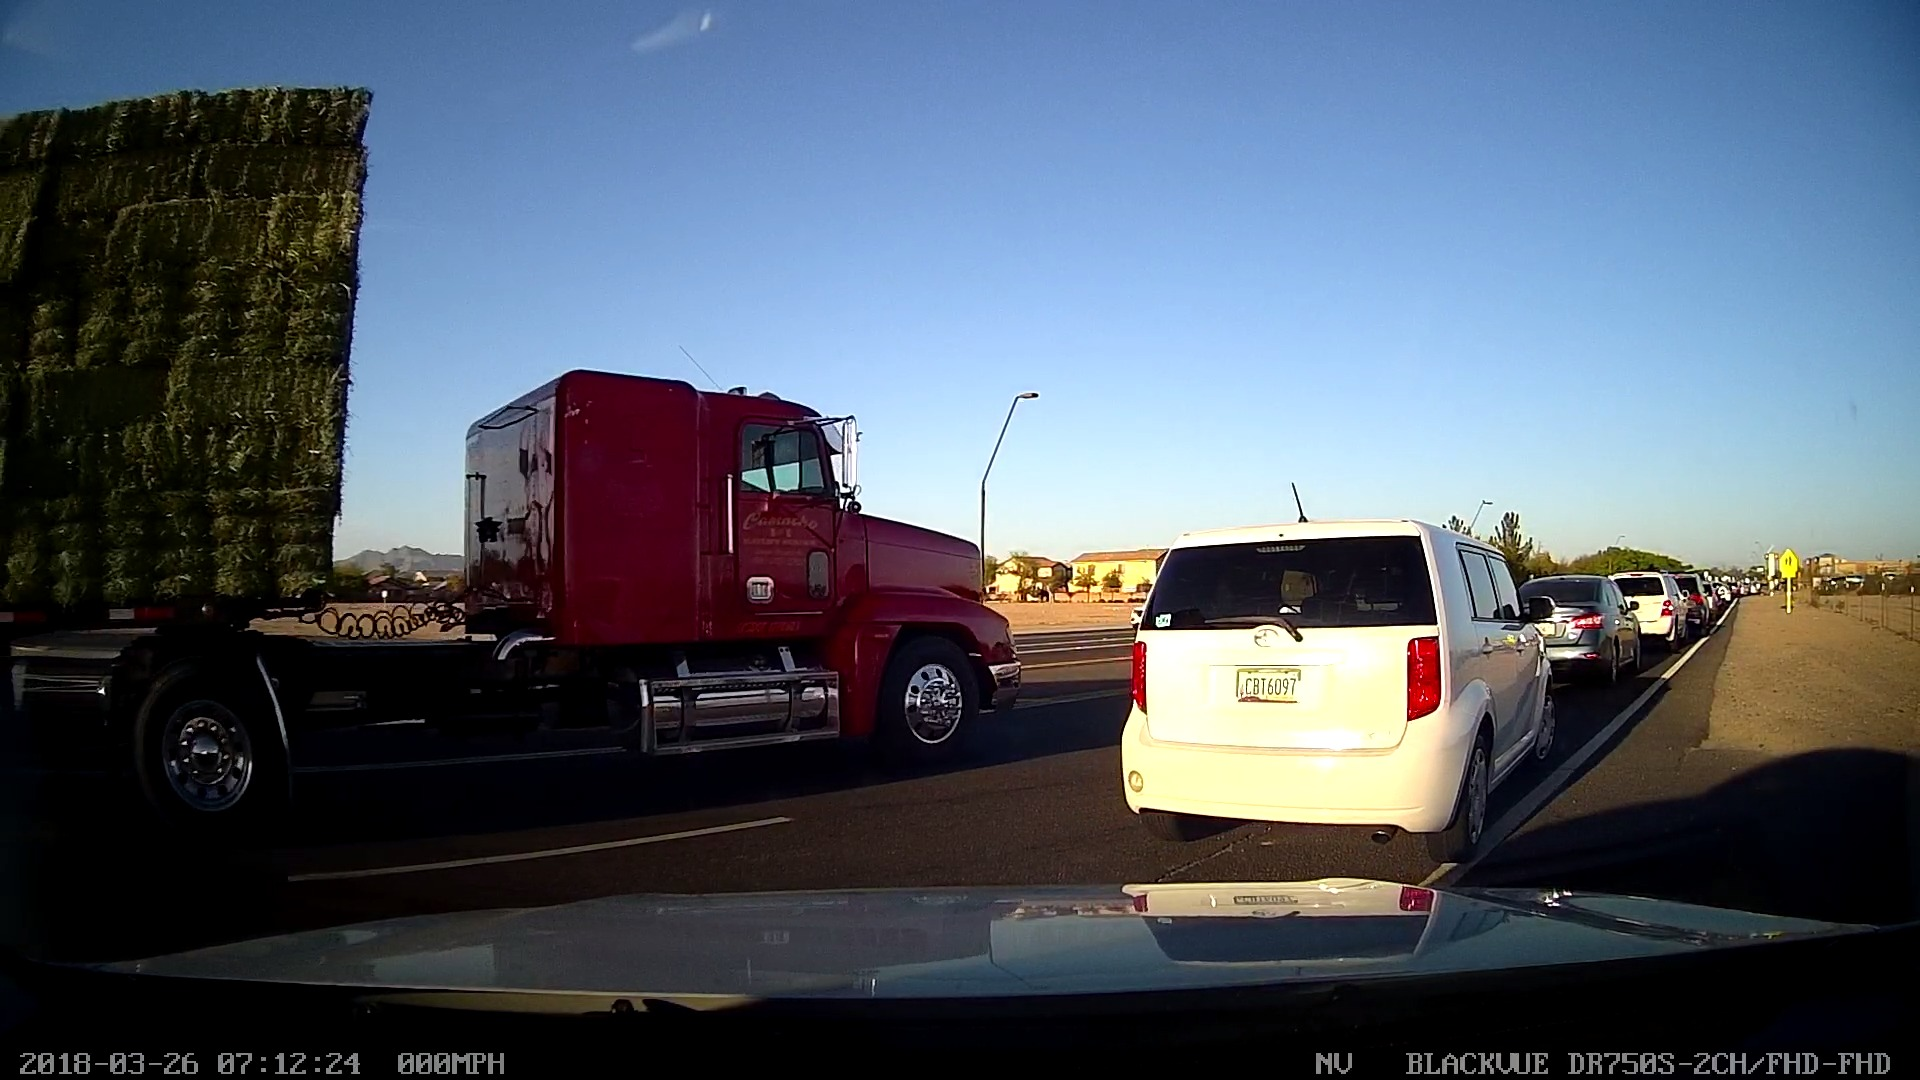plate: (1229, 660, 1309, 705)
vehicle: (115, 367, 1027, 820), (1116, 504, 1592, 850), (1507, 561, 1650, 690), (1612, 561, 1690, 651)
